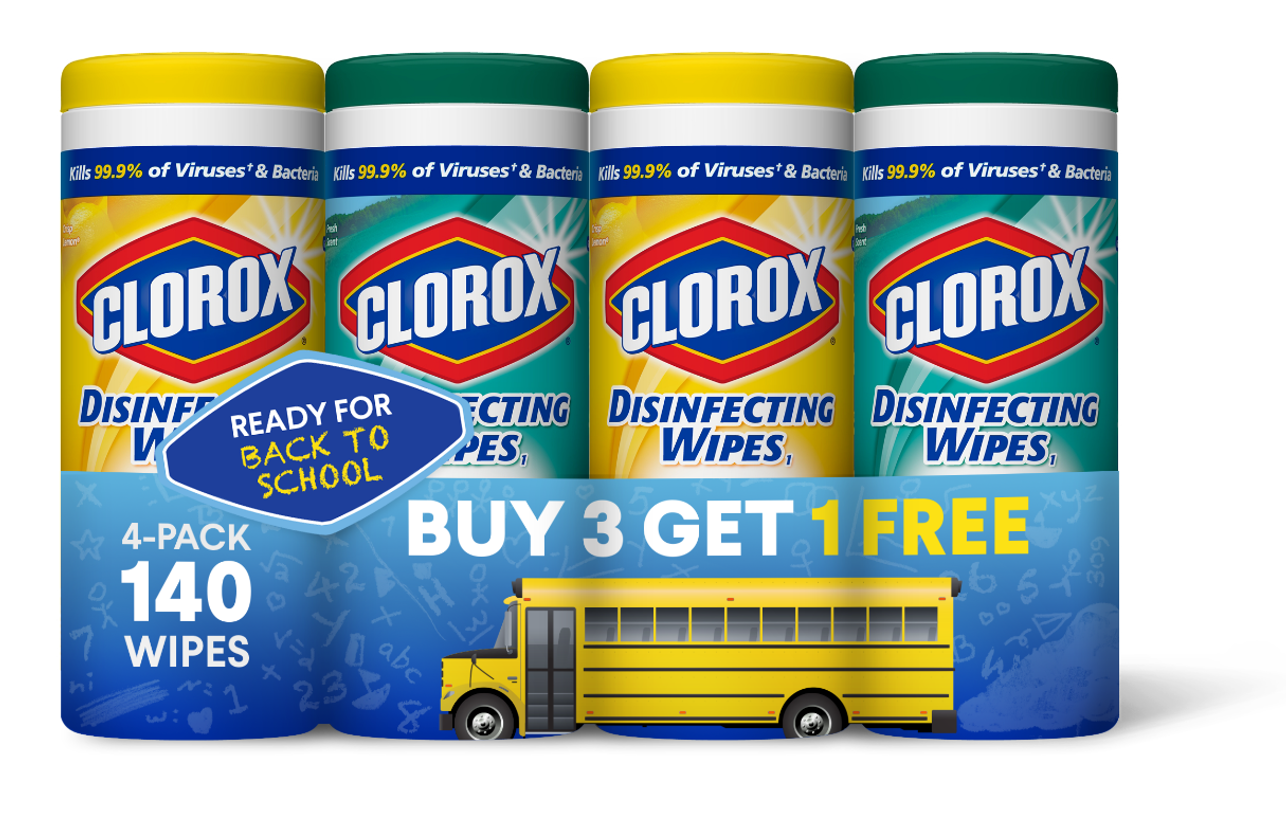Wipes: (49, 45, 328, 747), (584, 43, 854, 753), (855, 46, 1127, 746), (322, 46, 584, 748)
